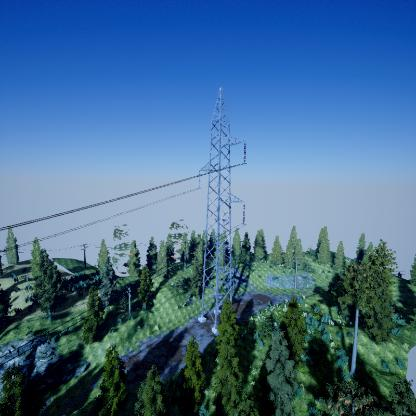tower: (190, 84, 253, 335)
